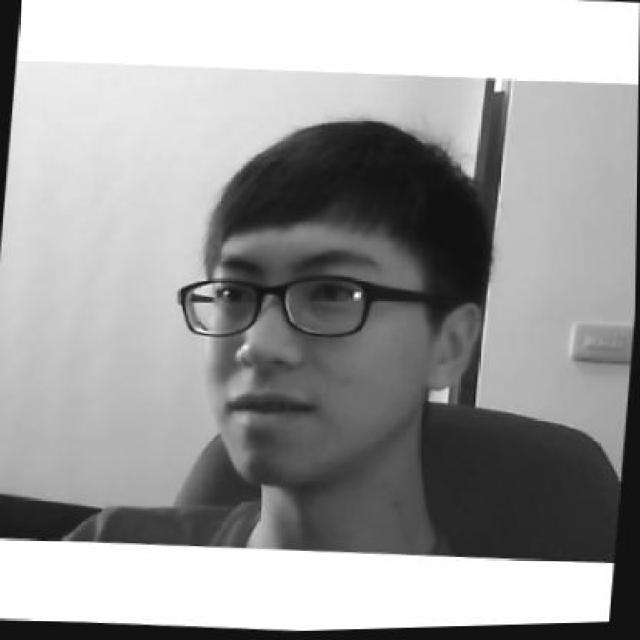attentif: (161, 106, 497, 502)
